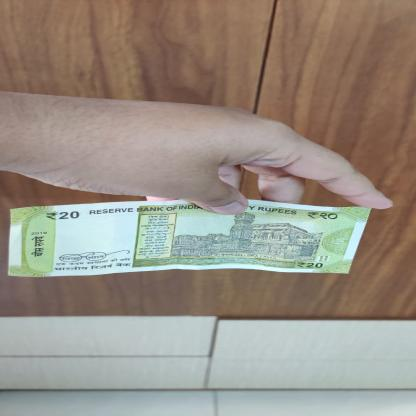New20Back: (7, 197, 372, 278)
